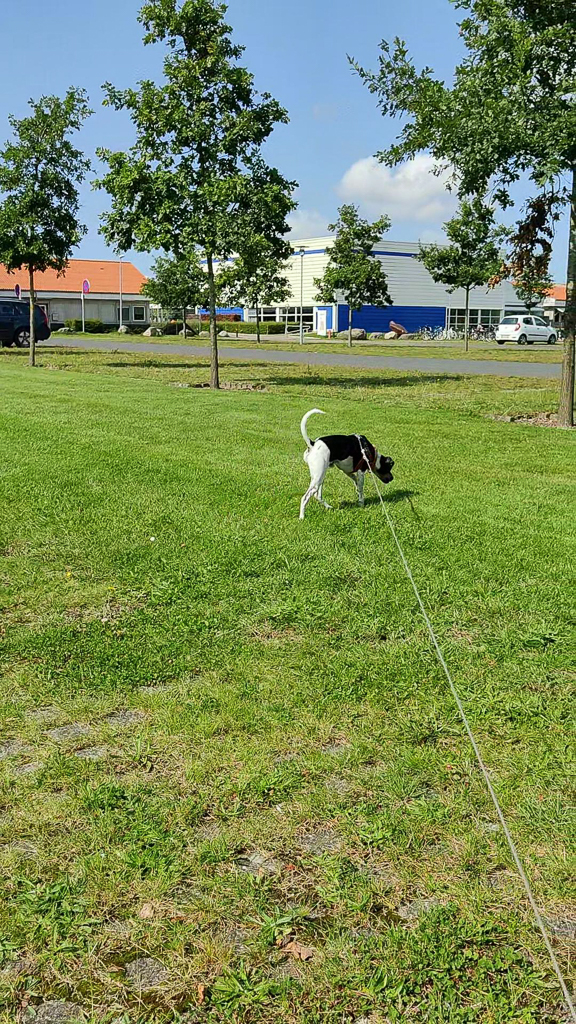Dog: (285, 401, 401, 527)
